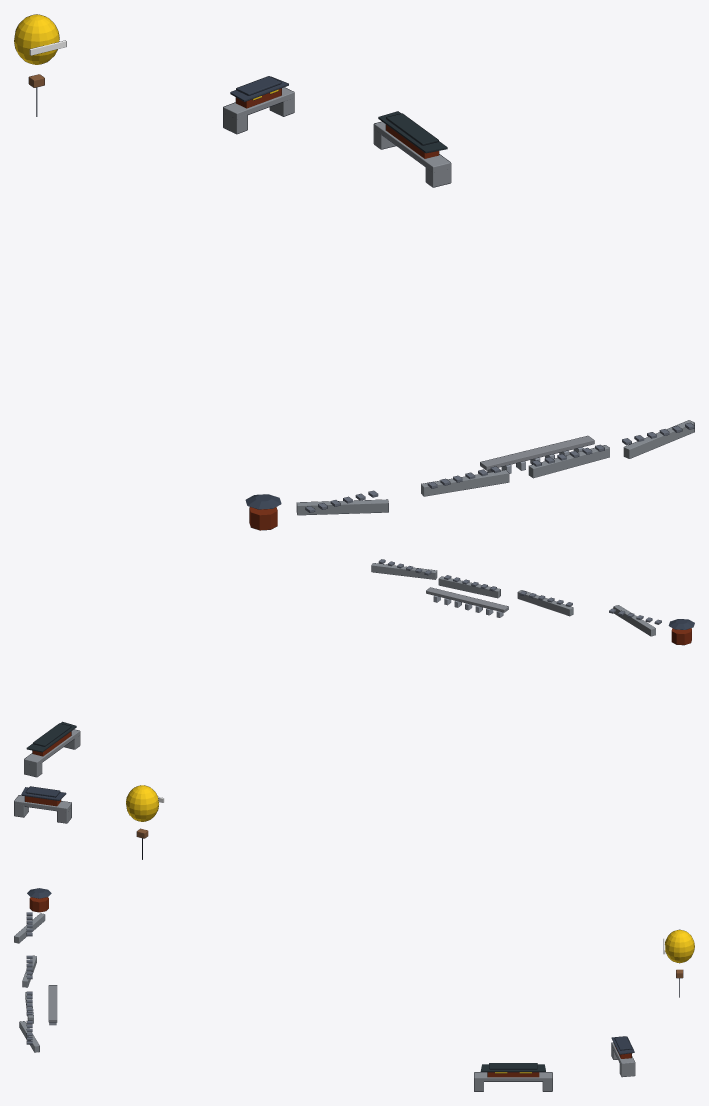
The model's file is suwon.glb.
3 views of the same model, one above another, from view 1: azimuth 30°, elevation 25°; view 2: azimuth 150°, elevation 25°; view 3: azimuth 270°, elevation 25° (orthographic). The views are drawn at different scales.
Parts seen in each view (by area): view 1: suwon_landmarks, janganmun, paldalmun; view 2: suwon_landmarks, janganmun, paldalmun; view 3: suwon_landmarks, janganmun, paldalmun.
Boxes of the visible parts, left/top/right/bottom form: suwon_landmarks: left=14, top=14, right=694, bottom=530; janganmun: left=373, top=111, right=451, bottom=187; paldalmun: left=223, top=76, right=294, bottom=134; suwon_landmarks: left=126, top=559, right=694, bottom=859; janganmun: left=24, top=721, right=80, bottom=777; paldalmun: left=14, top=786, right=71, bottom=823; suwon_landmarks: left=14, top=888, right=694, bottom=1052; janganmun: left=474, top=1063, right=552, bottom=1091; paldalmun: left=611, top=1036, right=635, bottom=1077.
Size of the model in its own units: 297 by 62.13 by 496.
